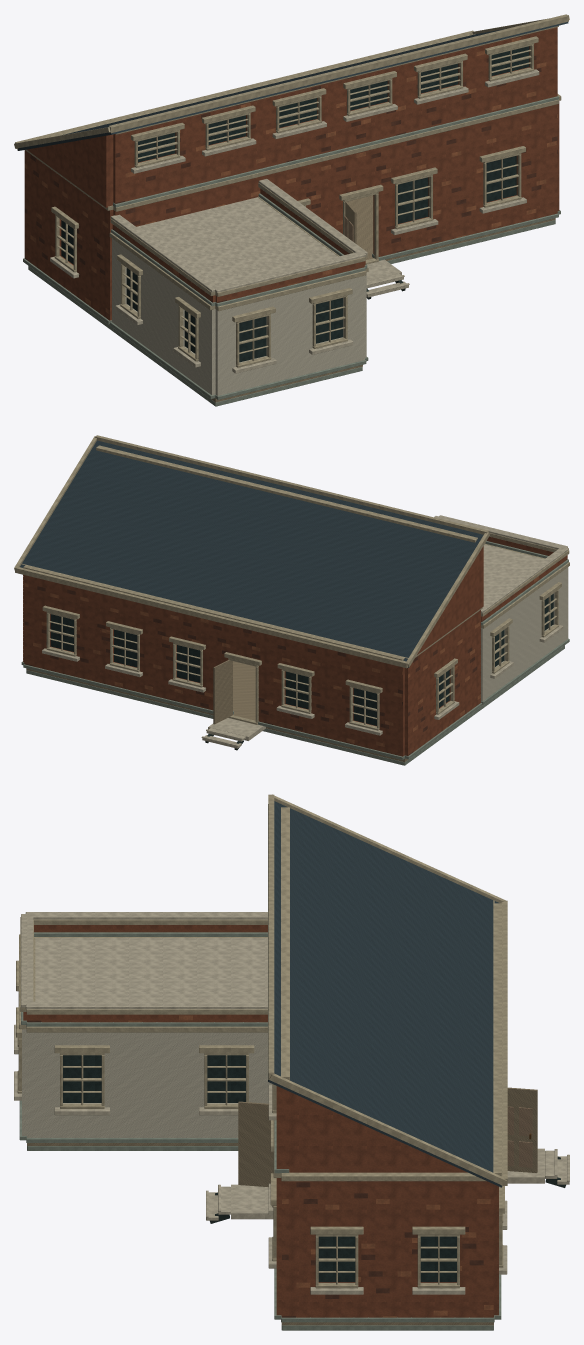
The picture shows the model from 3 angles, top to bottom: view 1: azimuth 30°, elevation 25°; view 2: azimuth 150°, elevation 25°; view 3: azimuth 270°, elevation 25°; orthographic projection. The views are drawn at different scales.
Parts seen in each view (by area): view 1: A011-08_02_Masonry_Facing, A011-08_01_Wall_Shell, A011-08_04_Architectural_Trim, A011-08_03_Window_Door_Frames, A011-08_11_Roof_Flat, A011-08_06_Glazing, A011-08_12_Roof_Edges, A011-08_11_Roof_Northlight_Shed, A011-08_00_Foundation, A011-08_07_Floors, A011-08_08_Stairs; view 2: A011-08_11_Roof_Northlight_Shed, A011-08_02_Masonry_Facing, A011-08_01_Wall_Shell, A011-08_04_Architectural_Trim, A011-08_12_Roof_Edges, A011-08_03_Window_Door_Frames, A011-08_06_Glazing, A011-08_07_Floors, A011-08_00_Foundation, A011-08_11_Roof_Flat, A011-08_05_Door_Leaf_01, A011-08_08_Stairs; view 3: A011-08_11_Roof_Northlight_Shed, A011-08_01_Wall_Shell, A011-08_04_Architectural_Trim, A011-08_02_Masonry_Facing, A011-08_11_Roof_Flat, A011-08_12_Roof_Edges, A011-08_06_Glazing, A011-08_03_Window_Door_Frames, A011-08_07_Floors, A011-08_05_Door_Leaf_00, A011-08_05_Door_Leaf_01, A011-08_00_Foundation (+1 smaller).
Part boxes in pixels (bbox=[...]): A011-08_02_Masonry_Facing: bbox=[24, 27, 557, 320]; A011-08_01_Wall_Shell: bbox=[24, 27, 559, 395]; A011-08_04_Architectural_Trim: bbox=[23, 25, 561, 399]; A011-08_03_Window_Door_Frames: bbox=[54, 43, 534, 367]; A011-08_11_Roof_Flat: bbox=[136, 197, 337, 285]; A011-08_06_Glazing: bbox=[61, 46, 529, 362]; A011-08_12_Roof_Edges: bbox=[14, 14, 569, 149]; A011-08_11_Roof_Northlight_Shed: bbox=[17, 22, 568, 150]; A011-08_00_Foundation: bbox=[28, 220, 555, 406]; A011-08_07_Floors: bbox=[109, 195, 555, 402]; A011-08_08_Stairs: bbox=[366, 273, 409, 297]; A011-08_11_Roof_Northlight_Shed: bbox=[20, 440, 483, 667]; A011-08_02_Masonry_Facing: bbox=[23, 555, 567, 756]; A011-08_01_Wall_Shell: bbox=[23, 536, 568, 756]; A011-08_04_Architectural_Trim: bbox=[21, 445, 569, 759]; A011-08_12_Roof_Edges: bbox=[14, 435, 489, 668]; A011-08_03_Window_Door_Frames: bbox=[46, 589, 559, 730]; A011-08_06_Glazing: bbox=[50, 594, 553, 725]; A011-08_07_Floors: bbox=[26, 661, 482, 762]; A011-08_00_Foundation: bbox=[26, 645, 564, 765]; A011-08_11_Roof_Flat: bbox=[483, 544, 544, 603]; A011-08_05_Door_Leaf_01: bbox=[213, 659, 232, 724]; A011-08_08_Stairs: bbox=[201, 728, 245, 748]; A011-08_11_Roof_Northlight_Shed: bbox=[268, 801, 502, 1187]; A011-08_01_Wall_Shell: bbox=[22, 925, 498, 1317]; A011-08_04_Architectural_Trim: bbox=[14, 807, 507, 1322]; A011-08_02_Masonry_Facing: bbox=[27, 1015, 493, 1317]; A011-08_11_Roof_Flat: bbox=[35, 938, 267, 1001]; A011-08_12_Roof_Edges: bbox=[268, 794, 507, 1185]; A011-08_06_Glazing: bbox=[63, 1055, 456, 1282]; A011-08_03_Window_Door_Frames: bbox=[17, 991, 503, 1288]; A011-08_07_Floors: bbox=[27, 1143, 544, 1325]; A011-08_05_Door_Leaf_00: bbox=[238, 1101, 273, 1187]; A011-08_05_Door_Leaf_01: bbox=[507, 1087, 537, 1172]; A011-08_00_Foundation: bbox=[27, 1146, 493, 1330].
Bounding box in the file's own units: 15.63 × 6.88 × 13.1.
Materials: 13 (13 with a texture image).
